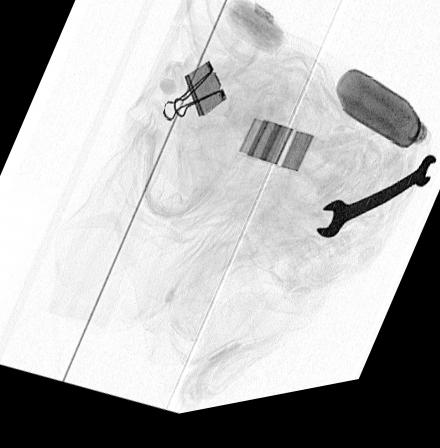Wrench: (314, 171, 436, 252)
